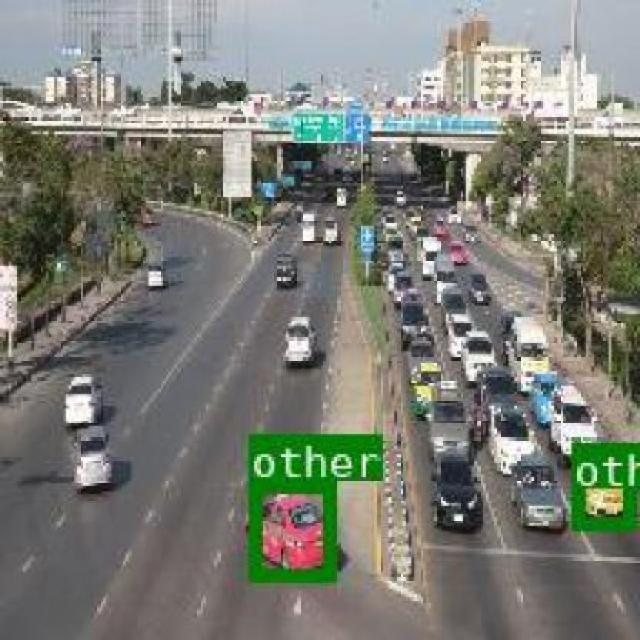other: (246, 478, 332, 578), (570, 442, 633, 528)
